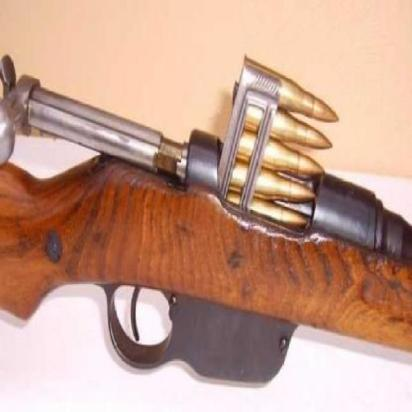Gun: (0, 63, 411, 411)
